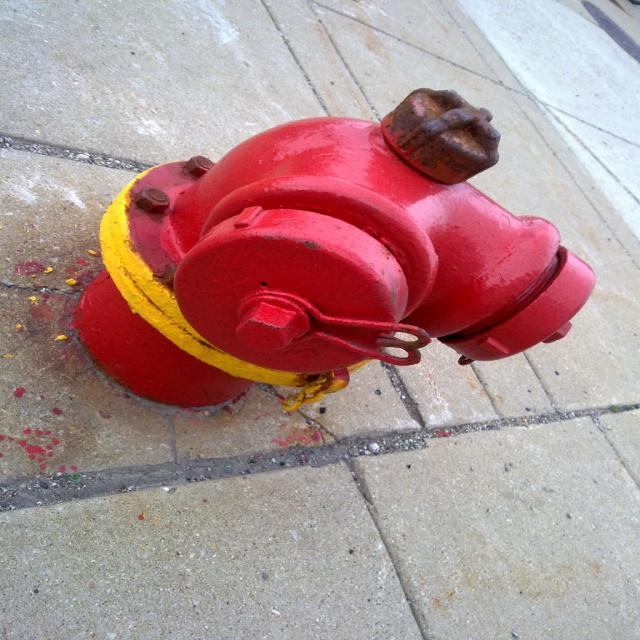fire_hydrant: (74, 89, 596, 408)
